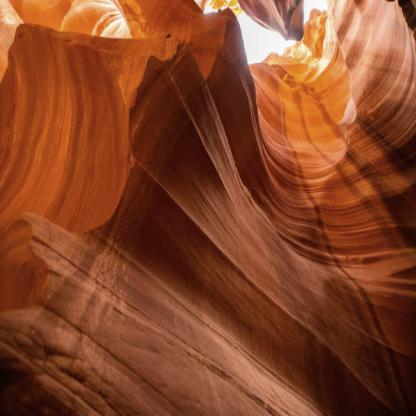Sedimentary_Sandstone: (1, 23, 135, 238), (114, 32, 229, 278), (186, 0, 267, 189)
